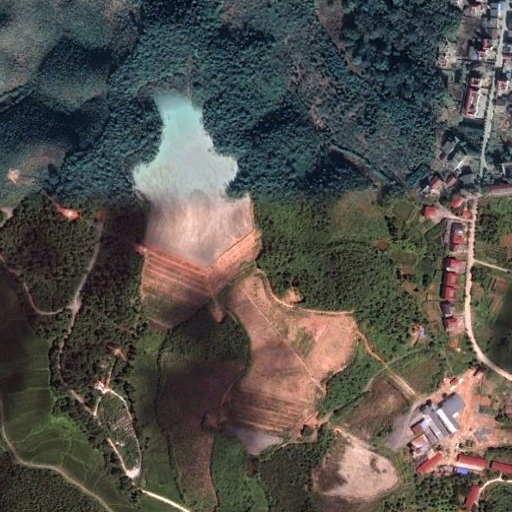tp: (124, 88, 263, 325), (225, 274, 362, 459)
